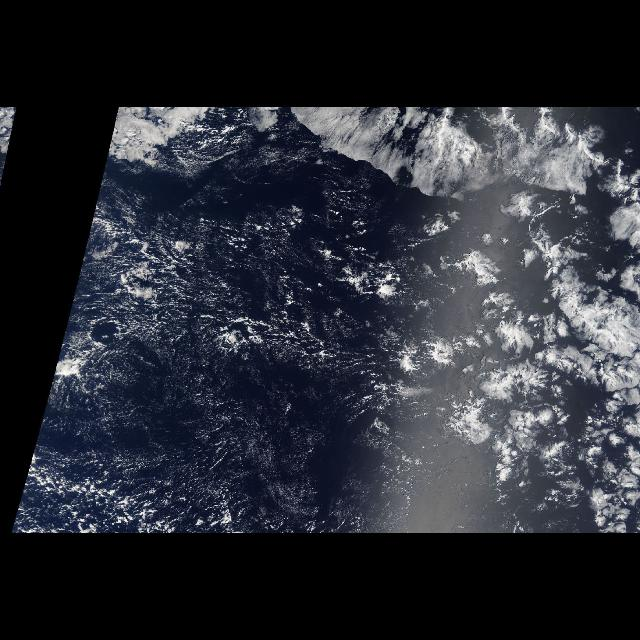Flower: (428, 220, 630, 512)
Sugar: (76, 220, 408, 530)
